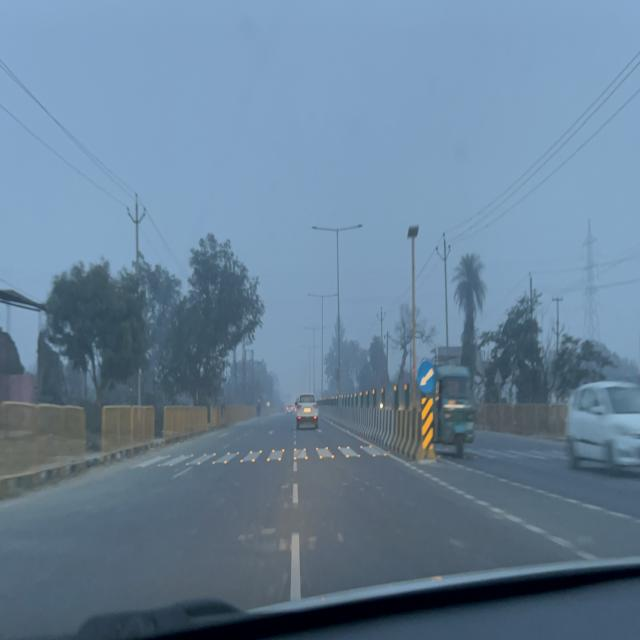KEEP_LEFT: (417, 360, 435, 395)
